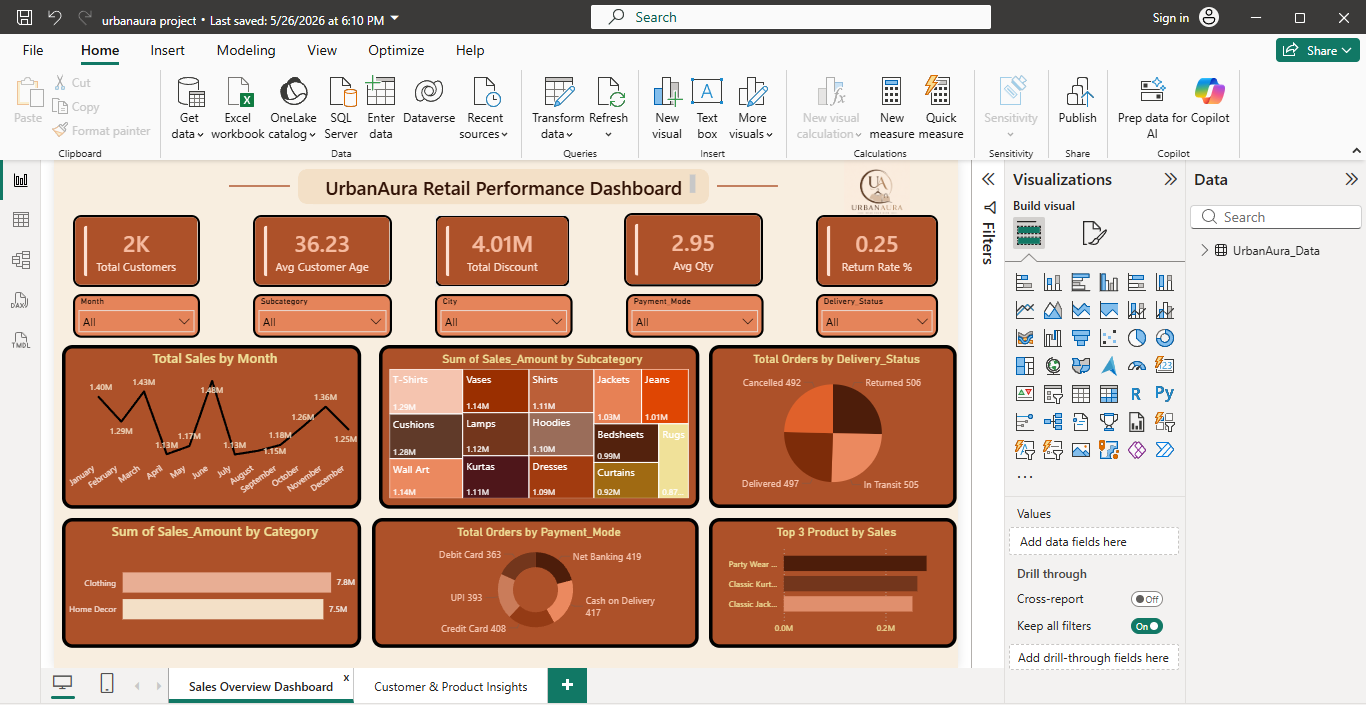

This screenshot's page, from the dashboard's own definition file:
{"tool":"powerbi","page":{"name":"Sales Overview Dashboard","canvas":[1280,720],"ordinal":0},"visuals":[{"type":"shape","box":[345.8,12.8,582.5,49.6],"z":0},{"type":"textbox","box":[366.5,15.6,547.1,46.8],"z":1000},{"type":"image","box":[1107,0,119.3,92.4],"z":2000},{"type":"shape","box":[939.7,12.8,86.5,48.2],"z":3000},{"type":"shape","box":[248,12.8,86.5,48.2],"z":4000},{"type":"cardVisual","fields":{"Data":["UrbanAura_Data.Total Customers"]},"box":[26.9,77.3,179.7,102.5],"z":5000},{"type":"cardVisual","fields":{"Data":["UrbanAura_Data.Total Discount"]},"box":[540.1,77.3,191.5,102.5],"z":6000},{"type":"cardVisual","fields":{"Data":["UrbanAura_Data.Avg Customer Age"]},"box":[282.2,77.3,196.5,102.5],"z":7000},{"type":"cardVisual","fields":{"Data":["UrbanAura_Data.Avg Qty"]},"box":[807.6,75.6,196.5,104.1],"z":8000},{"type":"cardVisual","fields":{"Data":["UrbanAura_Data.Return Rate %"]},"box":[1080.1,77.3,173,102.5],"z":9000},{"type":"lineChart","fields":{"Y":["UrbanAura_Data.Total Sales"],"Category":["UrbanAura_Data.Order_Date.Variation.Date Hierarchy.Month"]},"box":[11.3,262.2,423.8,232.4],"z":10000},{"type":"clusteredBarChart","fields":{"Y":["Sum(UrbanAura_Data.Sales_Amount)"],"Category":["UrbanAura_Data.Category"]},"box":[11.3,507.4,423.8,184.3],"z":11000},{"type":"treemap","fields":{"Group":["UrbanAura_Data.Subcategory"],"Values":["Sum(UrbanAura_Data.Sales_Amount)"]},"box":[460.6,262.2,453.5,232.4],"z":12000},{"type":"pieChart","fields":{"Y":["UrbanAura_Data.DAX Total Orders"],"Category":["UrbanAura_Data.Delivery_Status"]},"box":[928.3,262.2,351.5,231],"z":13000},{"type":"donutChart","fields":{"Category":["UrbanAura_Data.Payment_Mode"],"Y":["UrbanAura_Data.DAX Total Orders"]},"box":[450.7,507.4,463.5,184.3],"z":14000},{"type":"clusteredBarChart","title":"Top 3 Product by Sales","fields":{"Category":["UrbanAura_Data.Product_Name"],"Y":["UrbanAura_Data.Total Sales"]},"box":[928.3,507.4,351.5,184.3],"z":15000},{"type":"slicer","fields":{"Values":["UrbanAura_Data.Order_Date.Variation.Date Hierarchy.Month"]},"box":[26.9,189.8,179.7,62.2],"z":16000},{"type":"slicer","fields":{"Values":["UrbanAura_Data.Subcategory"]},"box":[282.2,189.8,196.5,62.2],"z":17000},{"type":"slicer","fields":{"Values":["UrbanAura_Data.City"]},"box":[540.1,189.8,194.9,62.2],"z":18000},{"type":"slicer","fields":{"Values":["UrbanAura_Data.Payment_Mode"]},"box":[810.1,189.8,194.9,62.2],"z":19000},{"type":"slicer","fields":{"Values":["UrbanAura_Data.Delivery_Status"]},"box":[1080.1,189.8,173,62.2],"z":20000}]}

Visuals, with their boxes on the page's 1280x720 design canvas (x1, y1, x2, y2). These are canvas units, not pixel positions in the 1366x705 screenshot, which may show the page scaled, cropped or inside an application window:
shape: rect(346, 13, 928, 62)
textbox: rect(366, 16, 914, 62)
image: rect(1107, 0, 1226, 92)
shape: rect(940, 13, 1026, 61)
shape: rect(248, 13, 334, 61)
cardVisual - UrbanAura_Data.Total Customers: rect(27, 77, 207, 180)
cardVisual - UrbanAura_Data.Total Discount: rect(540, 77, 732, 180)
cardVisual - UrbanAura_Data.Avg Customer Age: rect(282, 77, 479, 180)
cardVisual - UrbanAura_Data.Avg Qty: rect(808, 76, 1004, 180)
cardVisual - UrbanAura_Data.Return Rate %: rect(1080, 77, 1253, 180)
lineChart - UrbanAura_Data.Total Sales x UrbanAura_Data.Order_Date.Variation.Date Hierarchy.Month: rect(11, 262, 435, 495)
clusteredBarChart - Sum(UrbanAura_Data.Sales_Amount) x UrbanAura_Data.Category: rect(11, 507, 435, 692)
treemap - UrbanAura_Data.Subcategory x Sum(UrbanAura_Data.Sales_Amount): rect(461, 262, 914, 495)
pieChart - UrbanAura_Data.DAX Total Orders x UrbanAura_Data.Delivery_Status: rect(928, 262, 1280, 493)
donutChart - UrbanAura_Data.Payment_Mode x UrbanAura_Data.DAX Total Orders: rect(451, 507, 914, 692)
"Top 3 Product by Sales" clusteredBarChart: rect(928, 507, 1280, 692)
slicer - UrbanAura_Data.Order_Date.Variation.Date Hierarchy.Month: rect(27, 190, 207, 252)
slicer - UrbanAura_Data.Subcategory: rect(282, 190, 479, 252)
slicer - UrbanAura_Data.City: rect(540, 190, 735, 252)
slicer - UrbanAura_Data.Payment_Mode: rect(810, 190, 1005, 252)
slicer - UrbanAura_Data.Delivery_Status: rect(1080, 190, 1253, 252)
